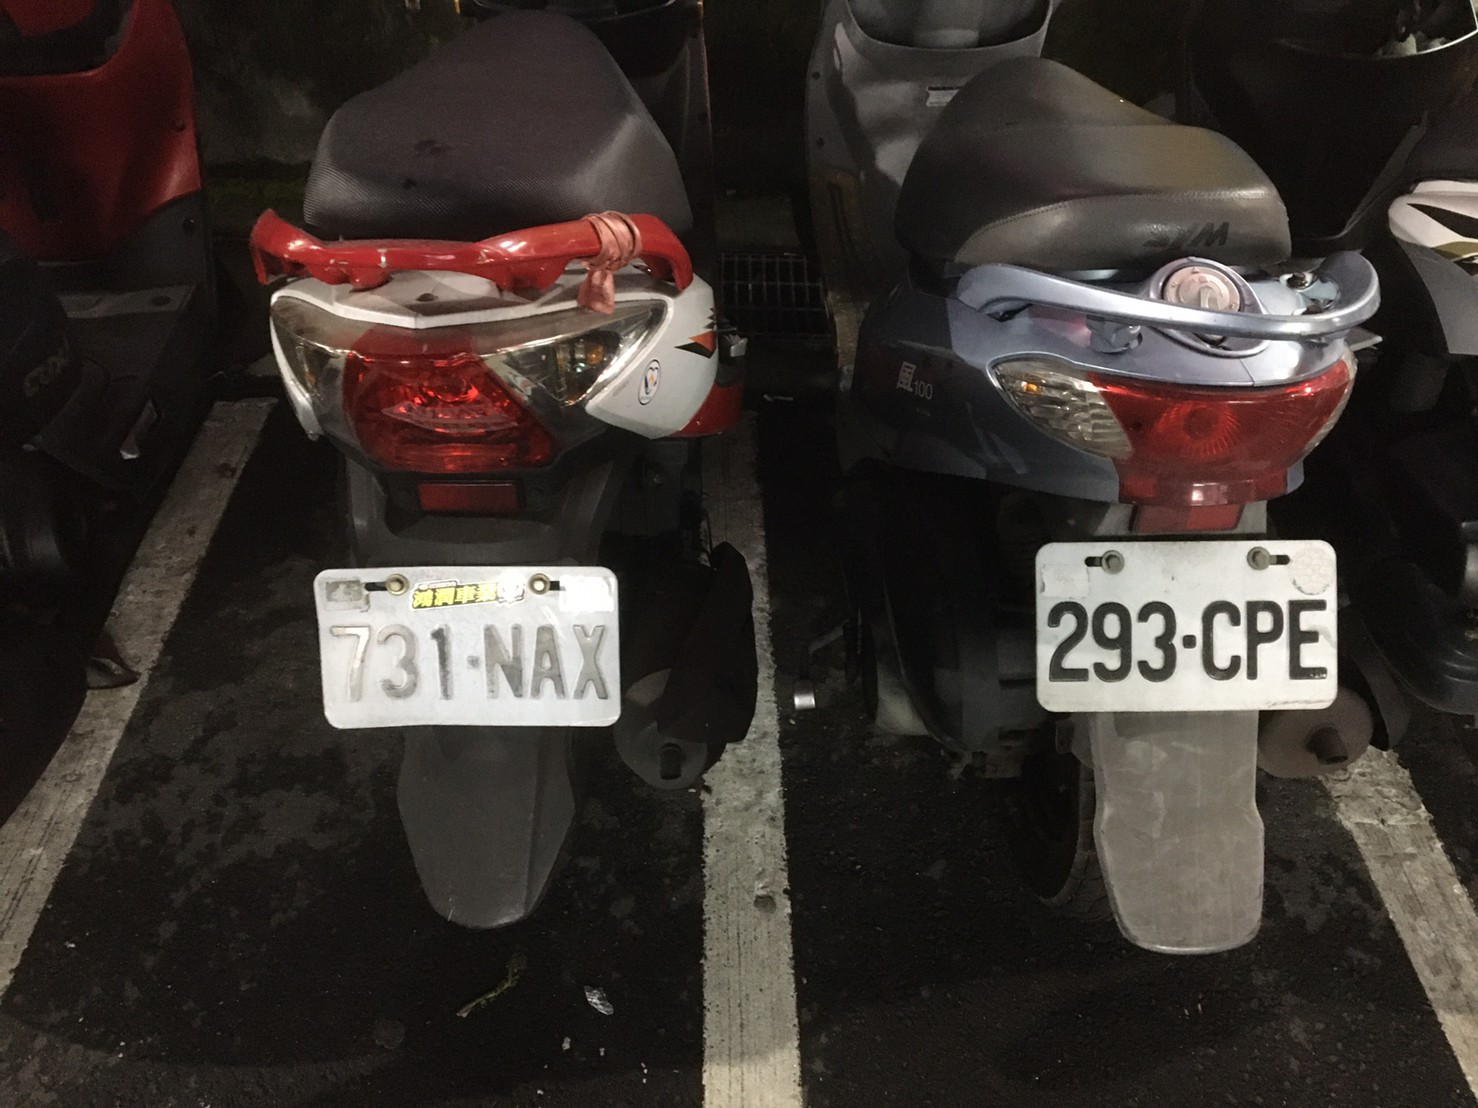LP: (1024, 523, 1351, 720), (303, 552, 632, 738)
